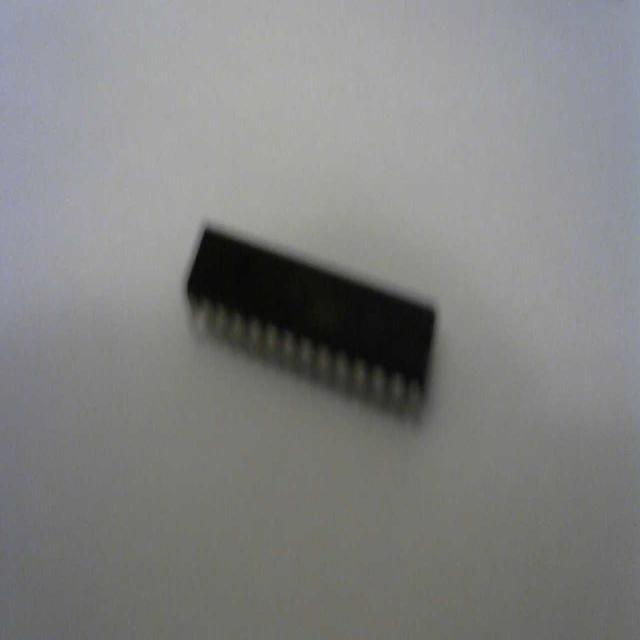atmega: (183, 218, 439, 427)
